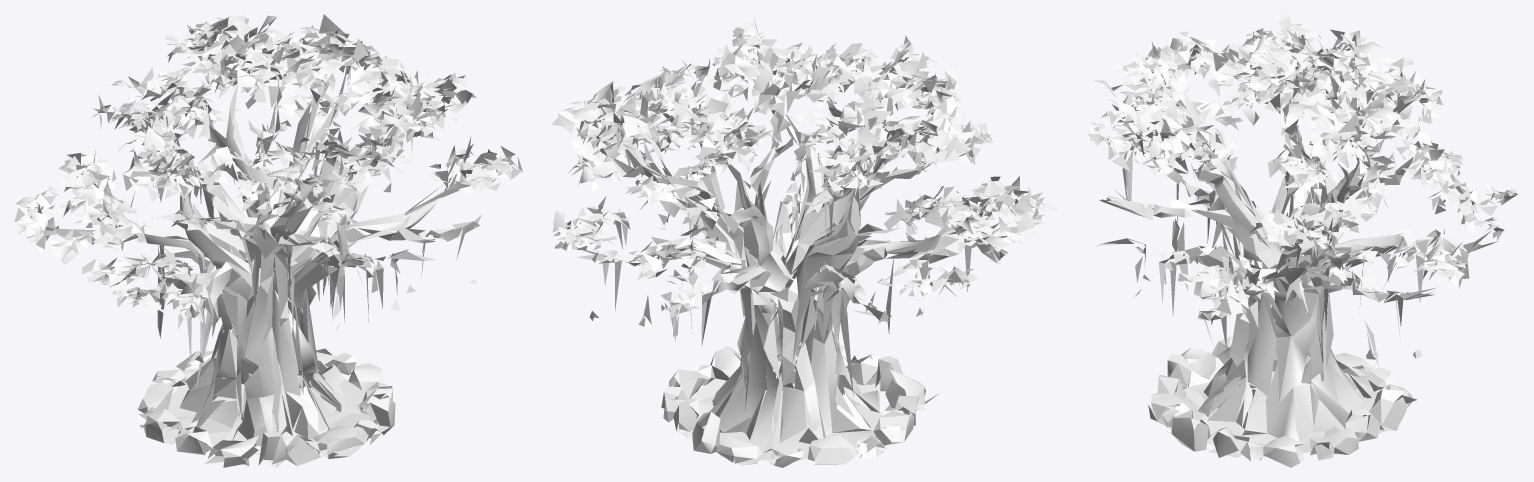
Rendered from oath_tree_lod1.glb.
3 renders of one model, left to right at view 1: azimuth 30°, elevation 25°; view 2: azimuth 150°, elevation 25°; view 3: azimuth 270°, elevation 25°, orthographic.
Visible parts, largest first — view 1: oath_tree; view 2: oath_tree; view 3: oath_tree.
Boxes of the visible parts, left/top/right/bottom form: oath_tree: left=14, top=14, right=522, bottom=467; oath_tree: left=551, top=17, right=1058, bottom=467; oath_tree: left=1087, top=14, right=1519, bottom=467.
Size of the model in its own units: 19.98 by 16.3 by 16.71.
Materials: 1 (1 with a texture image).
